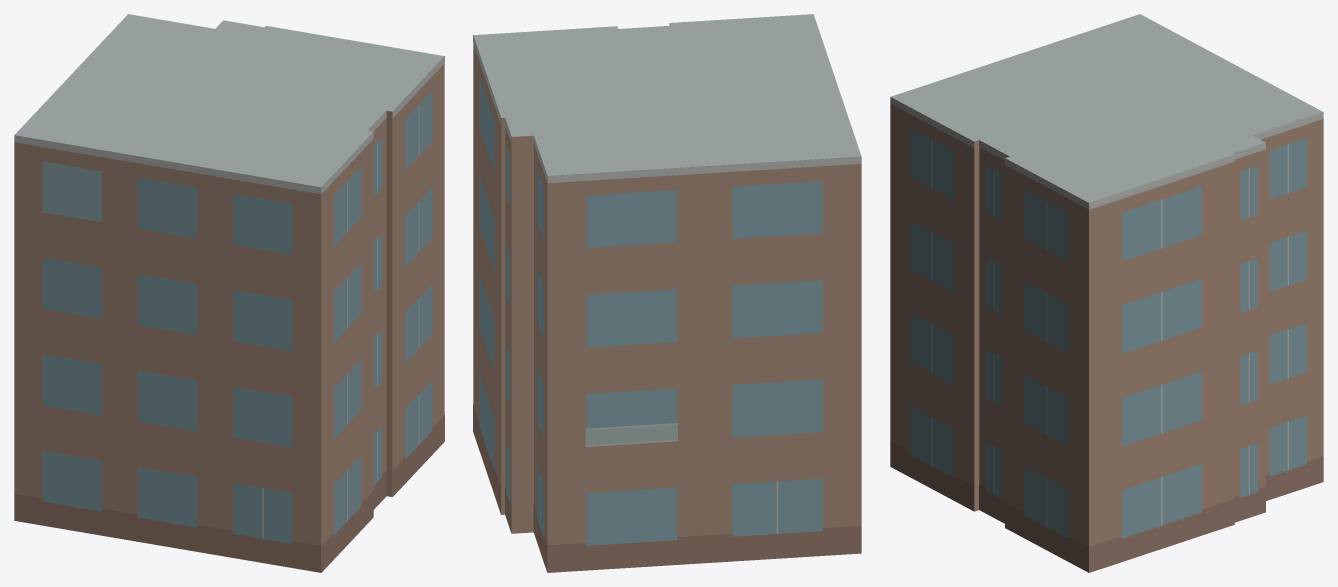
The model's file is survey-upis-32656967.glb.
3 renders of one model, left to right at view 1: azimuth 30°, elevation 25°; view 2: azimuth 150°, elevation 25°; view 3: azimuth 270°, elevation 25°, orthographic. The views are drawn at different scales.
Visible parts, largest first — view 1: survey-upis-32656967.tmp; view 2: survey-upis-32656967.tmp; view 3: survey-upis-32656967.tmp.
Part boxes in pixels (<box>): survey-upis-32656967.tmp: <box>14,14,444,572</box>; survey-upis-32656967.tmp: <box>473,14,861,572</box>; survey-upis-32656967.tmp: <box>890,14,1323,572</box>.
Size of the model in its own units: 14.64 by 13.35 by 14.18.
